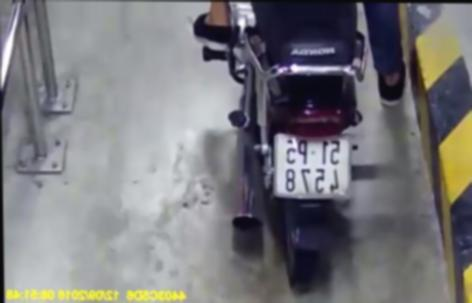License_Plate: (266, 130, 362, 200)
